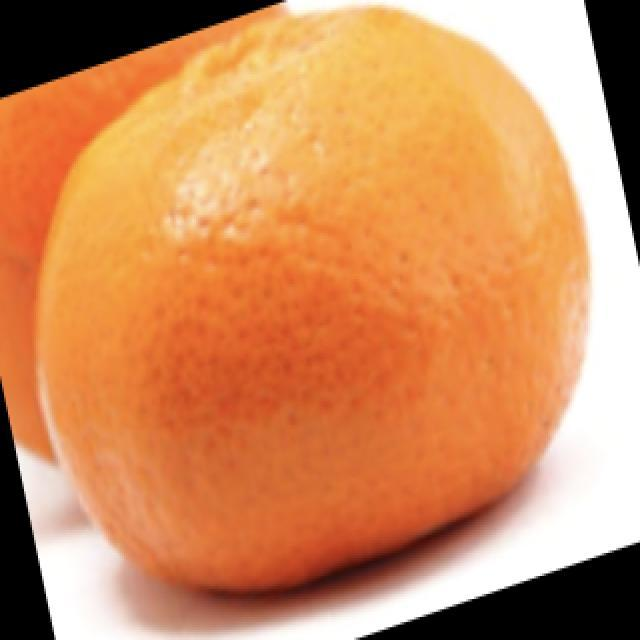matang: (39, 8, 588, 586)
